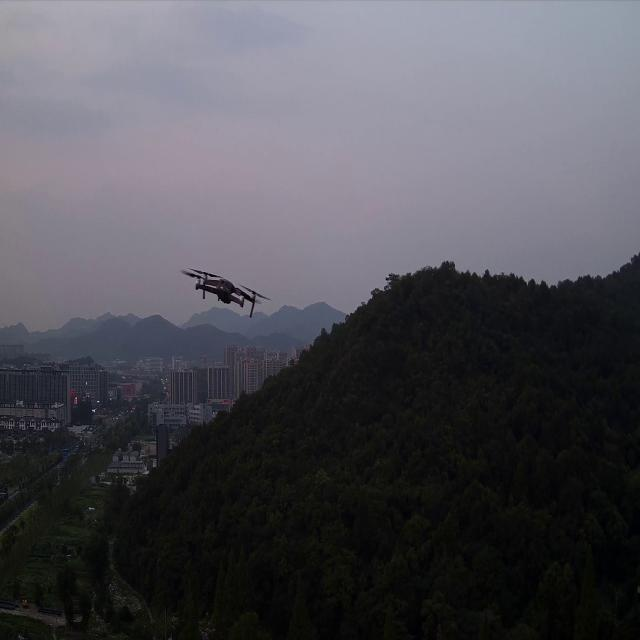UAV: (179, 264, 272, 319)
